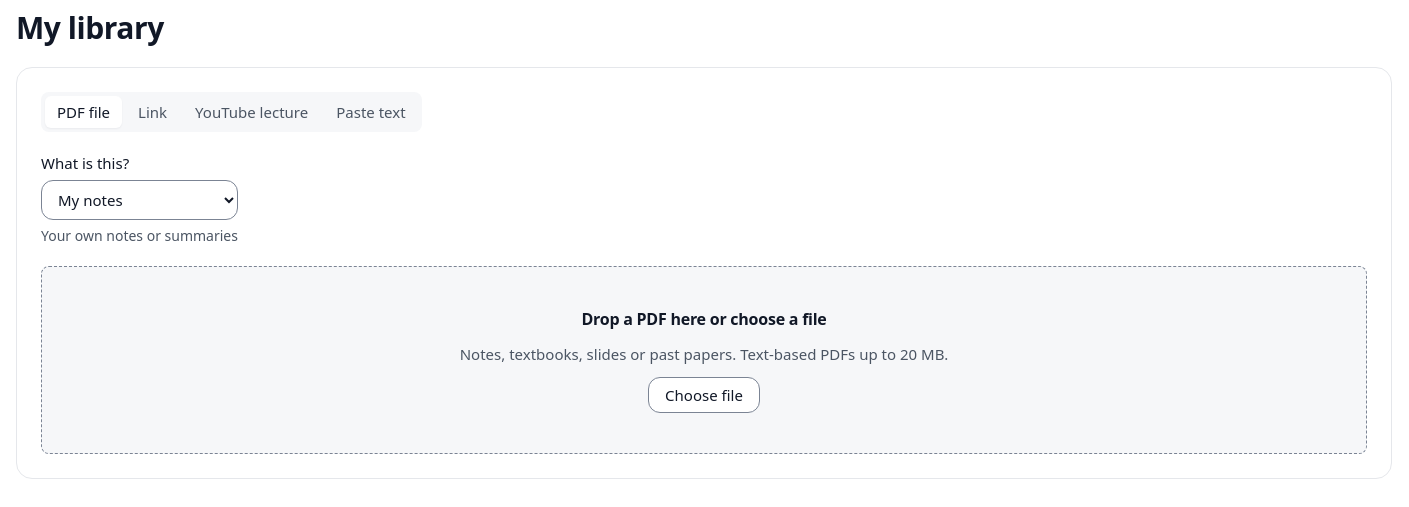
Test: YouTube lectures › rejects a link that is not YouTube before asking the server
This screenshot has width=1409, height=507.
Click the tab "YouTube lecture" at x=252, y=112, box left=183, top=96, right=320, bottom=128
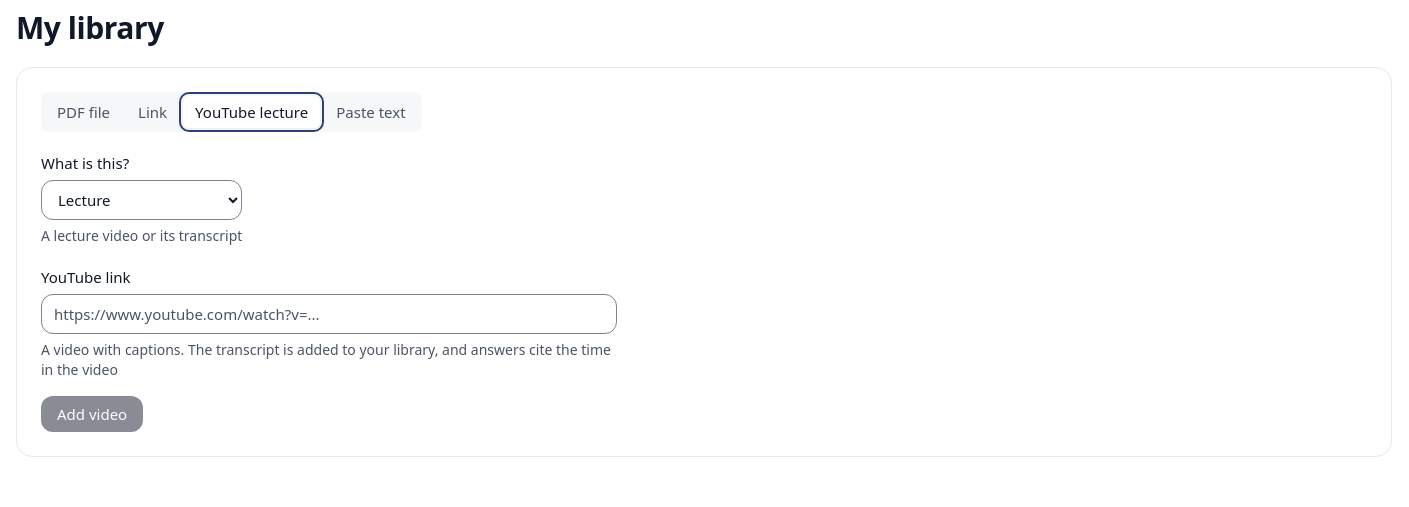
Type "https://example.com/video" into the field labelled "YouTube link" at x=329, y=314, box left=41, top=294, right=617, bottom=334
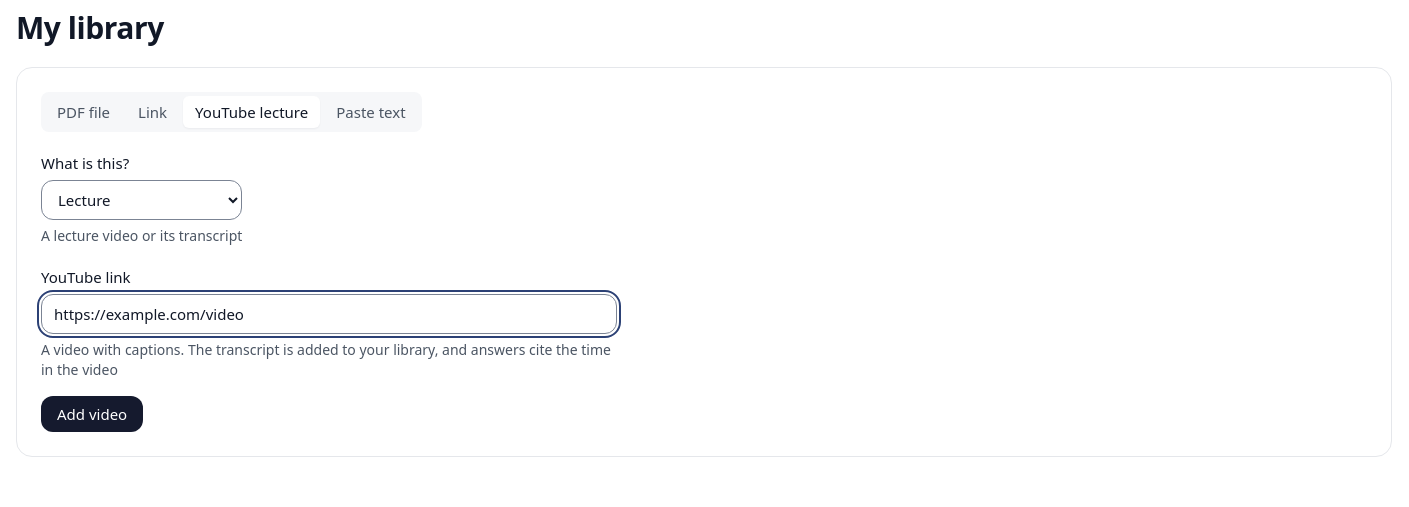
Click the button "Add video" at x=92, y=414, box left=41, top=396, right=143, bottom=432
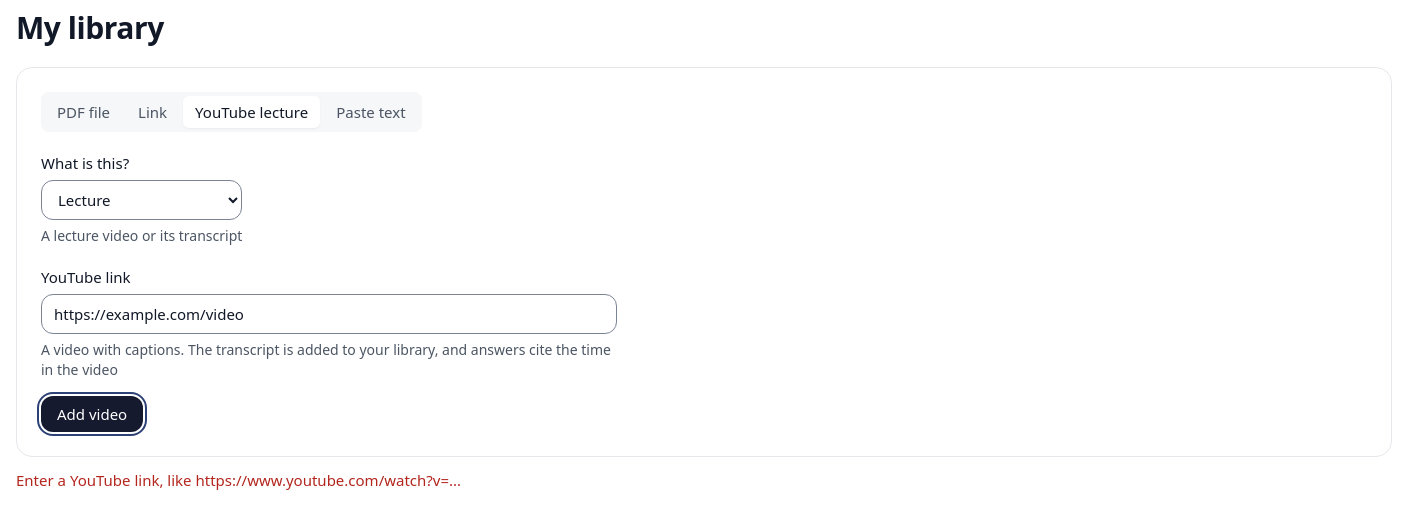
Now the message shows "Enter a YouTube link", box left=16, top=470, right=461, bottom=490
